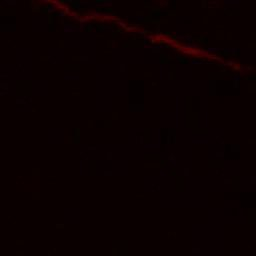debris: (200, 49, 238, 69), (148, 31, 176, 45), (177, 43, 205, 56), (80, 13, 118, 22), (52, 3, 79, 15), (123, 20, 146, 31)
